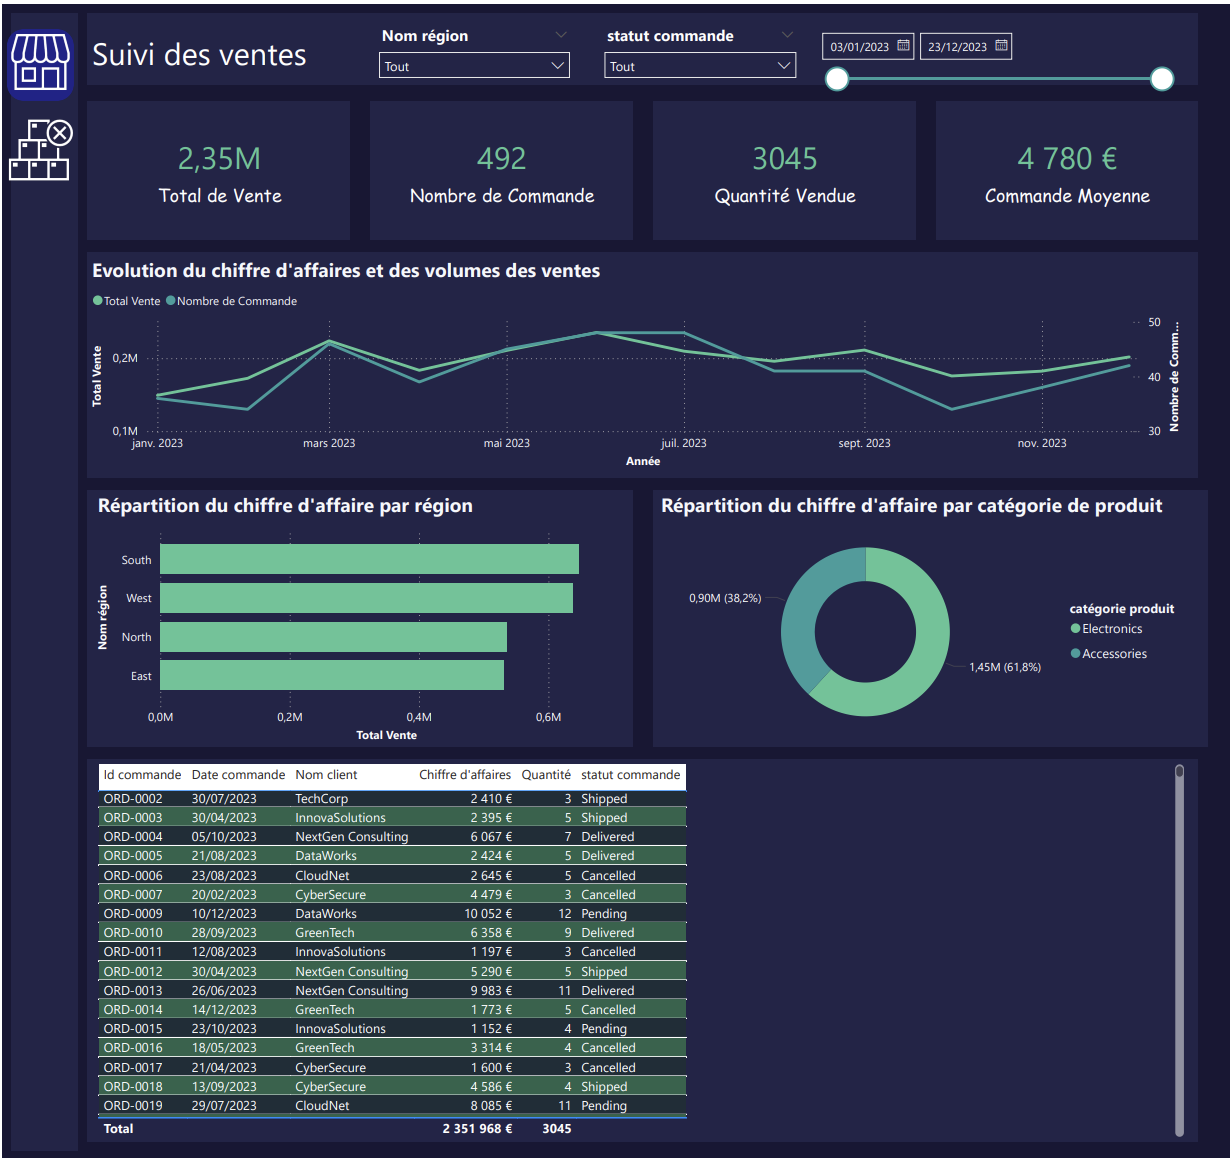

This screenshot's page, from the dashboard's own definition file:
{"tool":"powerbi","page":{"name":"Suivi  de Vente","canvas":[1280,2000],"ordinal":0},"visuals":[{"type":"shape","box":[9.9,9.9,69.5,1185],"z":0},{"type":"shape","box":[89.3,9.9,1158.1,73.7],"z":1000},{"type":"shape","box":[89.3,100.6,273.6,144.6],"z":2000},{"type":"shape","box":[384.1,100.6,273.6,144.6],"z":3000},{"type":"shape","box":[679,100.6,273.6,144.6],"z":4000},{"type":"shape","box":[973.8,100.6,273.6,144.6],"z":5000},{"type":"shape","box":[89.3,258,1158.1,235.3],"z":6000},{"type":"shape","box":[89.3,507.5,568.4,266.5],"z":7000},{"type":"shape","box":[679,507.5,578.3,266.5],"z":8000},{"type":"shape","box":[89.3,786.7,1158.1,398.3],"z":9000},{"type":"textbox","box":[89.3,24.1,316.1,56.7],"z":10000},{"type":"card","fields":{"Values":["Clients.Total Vente"]},"box":[95,100.6,263.7,144.6],"z":11000},{"type":"card","fields":{"Values":["ventes.Nombre de Commande"]},"box":[389.8,100.6,263.7,144.6],"z":12000},{"type":"card","fields":{"Values":["ventes.Quantité Vendue"]},"box":[684.7,100.6,263.7,144.6],"z":13000},{"type":"card","fields":{"Values":["Clients.Commande Moyenne"]},"box":[979.5,100.6,263.7,144.6],"z":14000},{"type":"lineChart","title":"Evolution du chiffre d''affaires et des volumes des ventes","fields":{"Category":["ventes.Date commande.Variation.Hiérarchie de dates.Année","ventes.Date commande.Variation.Hiérarchie de dates.Trimestre","ventes.Date commande.Variation.Hiérarchie de dates.Mois","ventes.Date commande.Variation.Hiérarchie de dates.Jour"],"Y":["Mesure.Total Vente"],"Y2":["Mesure.Nombre de Commande"]},"box":[89.3,262.2,1148.2,225.4],"z":15000},{"type":"barChart","title":"Répartition du chiffre d''affaire par région","fields":{"Y":["Mesure.Total Vente"],"Category":["Régions.Nom région"]},"box":[95,507.5,561.3,266.5],"z":16000},{"type":"donutChart","title":"Répartition du chiffre d''affaire par catégorie de produit","fields":{"Category":["Produits.catégorie produit"],"Y":["Mesure.Total Vente"]},"box":[681.8,507.5,561.3,266.5],"z":17000},{"type":"tableEx","fields":{"Values":["ventes.Id commande","ventes.Date commande","Clients.Nom client","Sum(ventes.Prix total)","Sum(ventes.Quantité)","ventes.statut commande"]},"box":[95,786.7,1142.5,398.3],"z":18000},{"type":"slicer","fields":{"Values":["Régions.Nom région"]},"box":[382.7,17,219.7,63.8],"z":19000},{"type":"slicer","fields":{"Values":["ventes.statut commande"]},"box":[618,17,219.7,63.8],"z":20000},{"type":"slicer","fields":{"Values":["ventes.Date commande"]},"box":[842,19.8,395.5,80.8],"z":21000},{"type":"image","box":[0,101,80.1,101],"z":22000},{"type":"shape","box":[5.2,26.1,69.7,74.9],"z":23000},{"type":"image","box":[0,8.7,80.1,102.7],"z":24000}]}

Visuals, with their boxes on the page's 1280x2000 design canvas (x1, y1, x2, y2). These are canvas units, not pixel positions in the 1232x1158 screenshot, which may show the page scaled, cropped or inside an application window:
shape: bbox(10, 10, 79, 1195)
shape: bbox(89, 10, 1247, 84)
shape: bbox(89, 101, 363, 245)
shape: bbox(384, 101, 658, 245)
shape: bbox(679, 101, 953, 245)
shape: bbox(974, 101, 1247, 245)
shape: bbox(89, 258, 1247, 493)
shape: bbox(89, 508, 658, 774)
shape: bbox(679, 508, 1257, 774)
shape: bbox(89, 787, 1247, 1185)
textbox: bbox(89, 24, 405, 81)
card - Clients.Total Vente: bbox(95, 101, 359, 245)
card - ventes.Nombre de Commande: bbox(390, 101, 654, 245)
card - ventes.Quantité Vendue: bbox(685, 101, 948, 245)
card - Clients.Commande Moyenne: bbox(980, 101, 1243, 245)
"Evolution du chiffre d''affaires et des volumes des ventes" lineChart: bbox(89, 262, 1238, 488)
"Répartition du chiffre d''affaire par région" barChart: bbox(95, 508, 656, 774)
"Répartition du chiffre d''affaire par catégorie de produit" donutChart: bbox(682, 508, 1243, 774)
tableEx - ventes.Id commande x ventes.Date commande: bbox(95, 787, 1238, 1185)
slicer - Régions.Nom région: bbox(383, 17, 602, 81)
slicer - ventes.statut commande: bbox(618, 17, 838, 81)
slicer - ventes.Date commande: bbox(842, 20, 1238, 101)
image: bbox(0, 101, 80, 202)
shape: bbox(5, 26, 75, 101)
image: bbox(0, 9, 80, 111)
